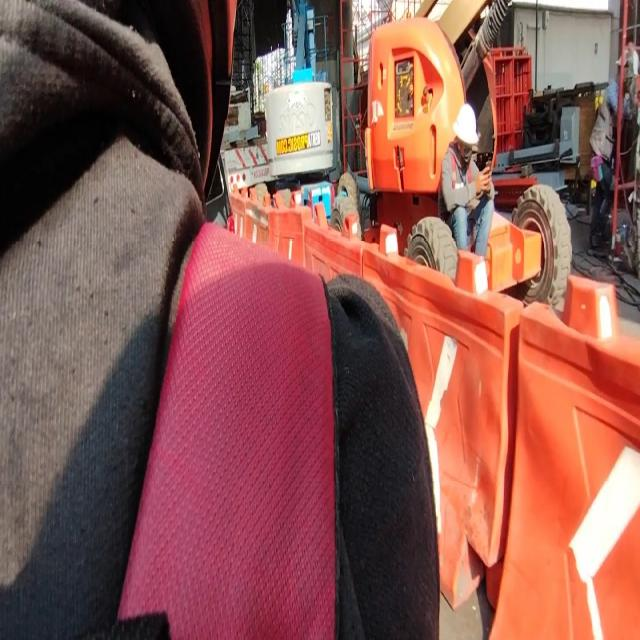adult: (586, 43, 638, 255), (441, 105, 495, 258)
